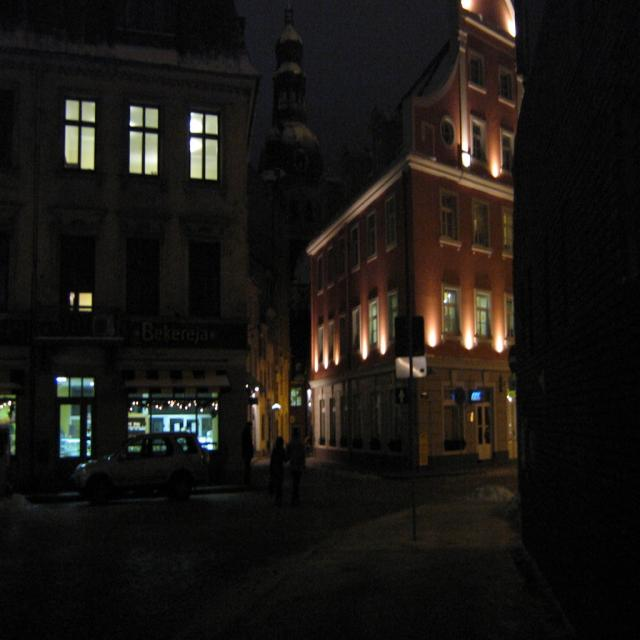car: (72, 427, 210, 509)
